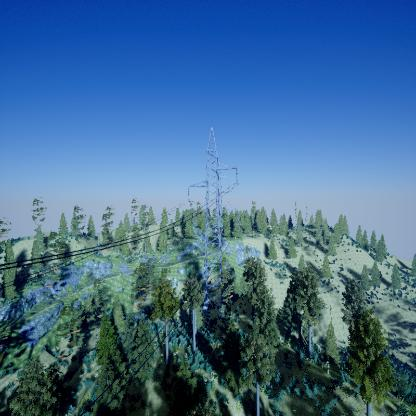tower: (185, 125, 241, 310)
